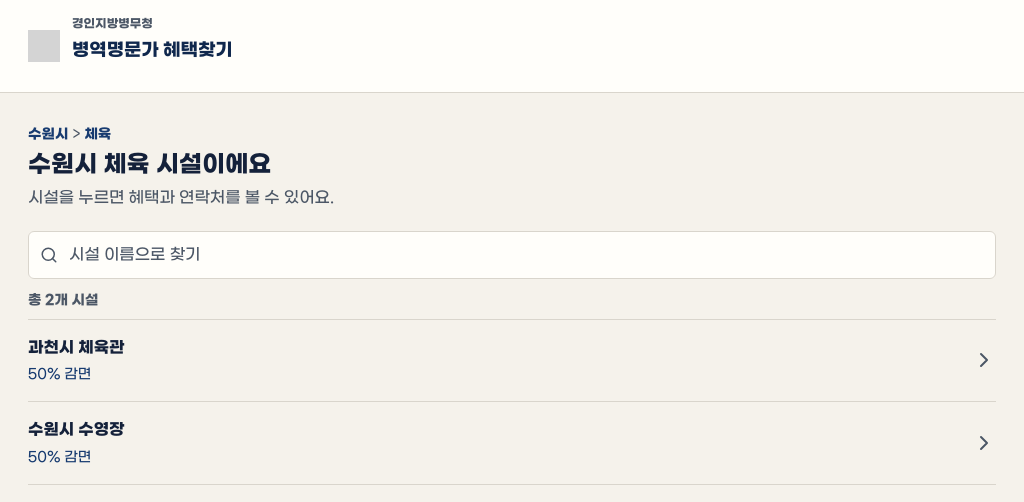
Test: FacilityListPage › 시설명 부분 일치 검색이 즉시 결과를 갱신한다 (FR-011, AC-007)
Check: the text "총 2개 시설" is shown, box [28, 292, 98, 309]
Type "과천" into the search field labelled "시설 이름으로 찾기" at (512, 255), box [28, 231, 996, 279]
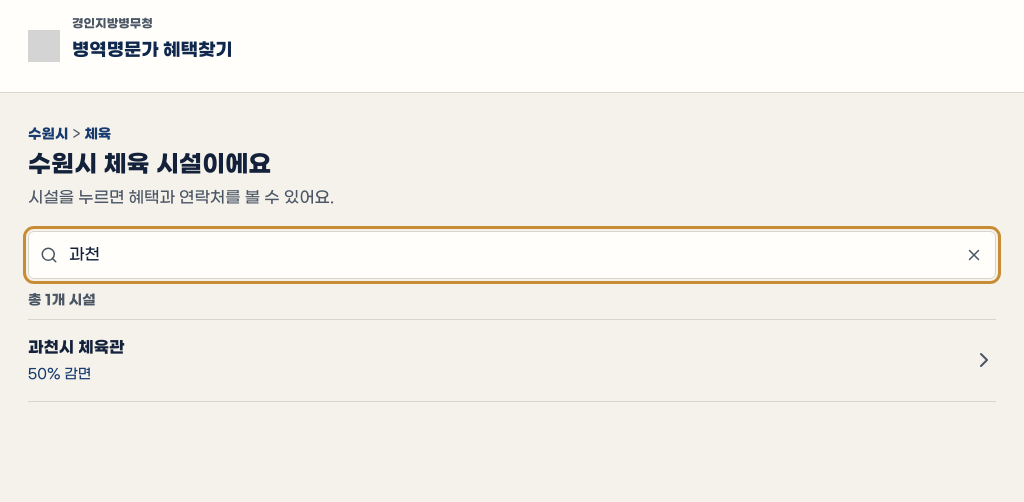
Check: the link "과천시 체육관 50% 감면" is shown, box [27, 338, 996, 383]
Check: the text "총 1개 시설" is shown, box [28, 292, 96, 309]
Check: the link "수원시 수영장" is gone
